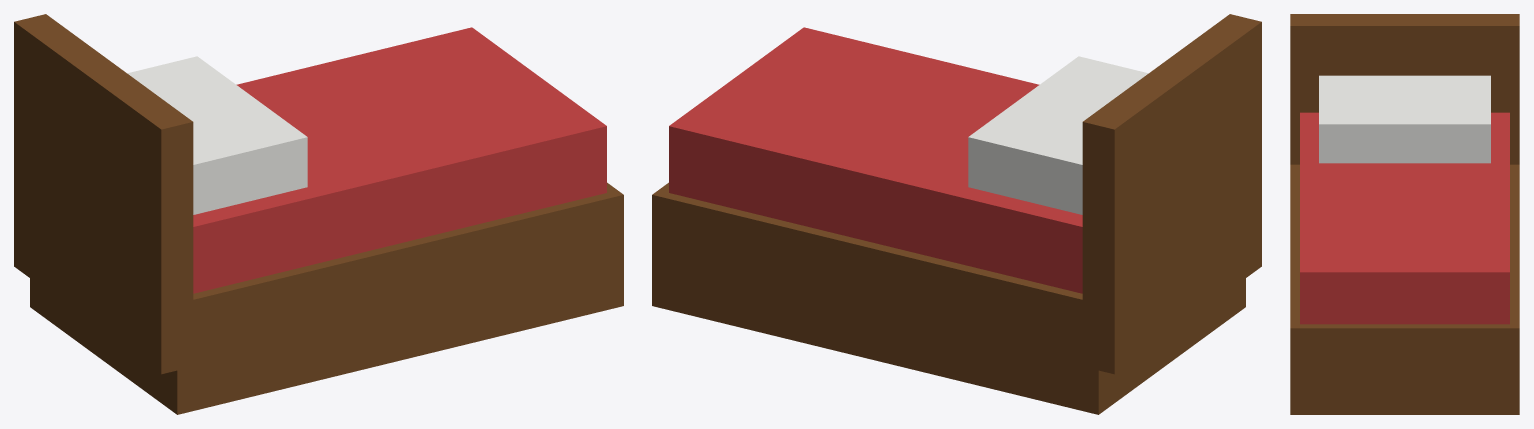
Rendered from icon_bed.glb.
3 views of the same model, side by side, from view 1: azimuth 30°, elevation 25°; view 2: azimuth 150°, elevation 25°; view 3: azimuth 270°, elevation 25° (orthographic). The views are drawn at different scales.
Visible parts, largest first — view 1: mat, frame, head, pillow; view 2: mat, frame, head, pillow; view 3: mat, frame, head, pillow.
Part boxes in pixels (box(x1,y1,x2,y2)): mat: box(193, 27, 606, 293); frame: box(30, 182, 623, 414); head: box(14, 14, 193, 374); pillow: box(127, 56, 307, 214); mat: box(669, 27, 1082, 293); frame: box(652, 182, 1245, 414); head: box(1082, 14, 1261, 374); pillow: box(968, 56, 1148, 214); mat: box(1300, 112, 1509, 324); frame: box(1290, 164, 1519, 414); head: box(1290, 14, 1519, 164); pillow: box(1319, 75, 1490, 163).
Bounding box in the file's own units: 0.435 × 0.26 × 0.24.
